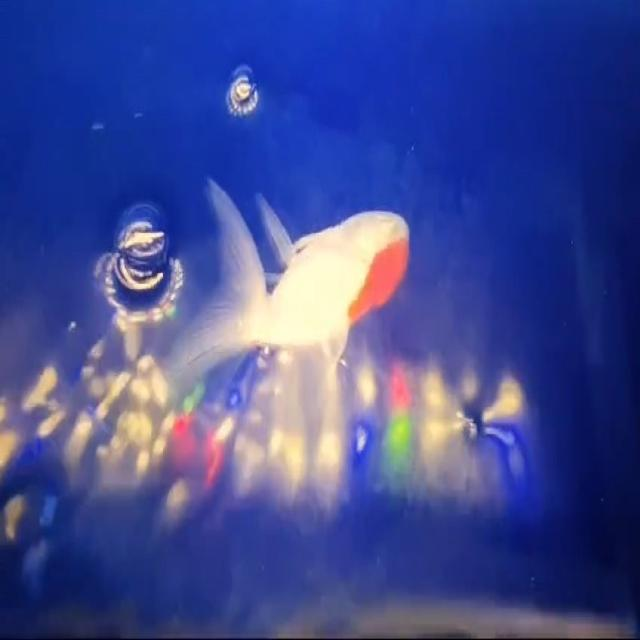fish: (170, 157, 412, 376)
